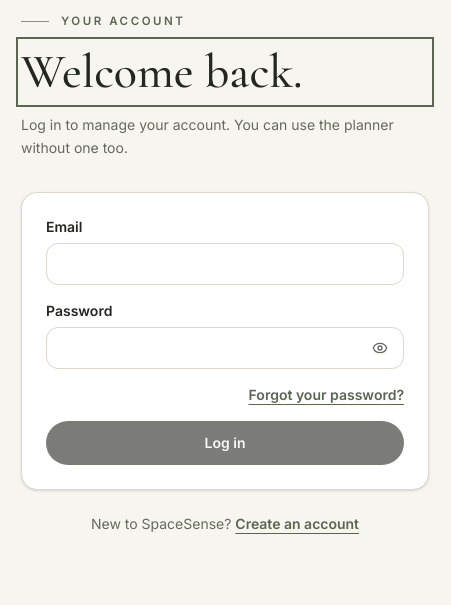
Test: LoginPage › submits the credentials and shows the server message when they are wrong
Expected: the button "Log in" is disabled, x1=46 y1=421 x2=404 y2=465
Step 1. Type "ada@example.com" into the field labelled "Email" → [225, 264], box x1=46 y1=243 x2=404 y2=285
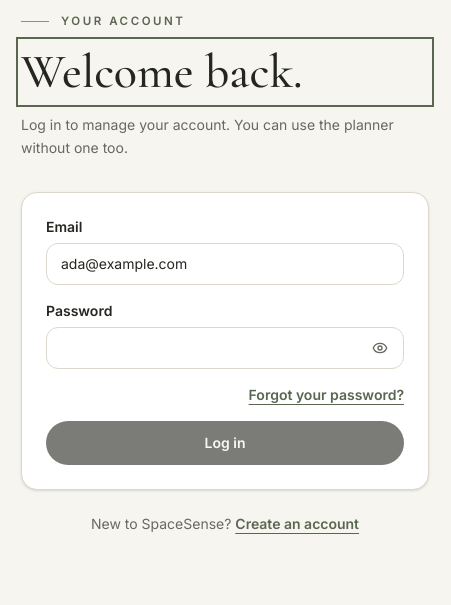
Step 2. Type "hunter2hunter2" into the password field labelled "Password" → [225, 348], box x1=46 y1=327 x2=404 y2=369
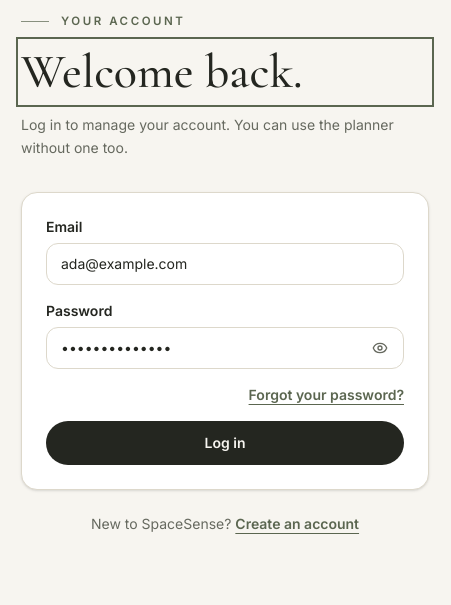
Step 3. Click the button "Log in" → [225, 443], box x1=46 y1=421 x2=404 y2=465
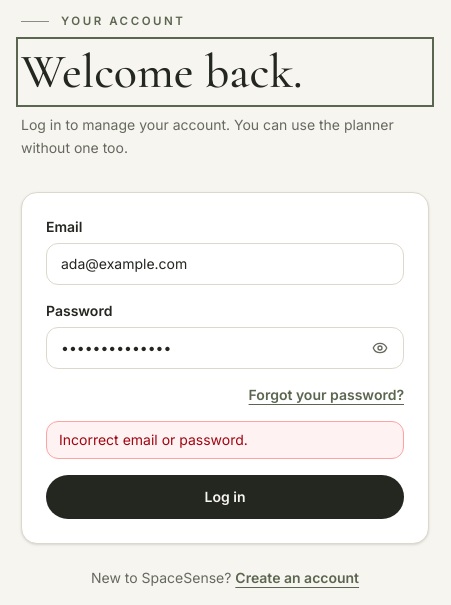
Expected: the button "Log in" is enabled, x1=46 y1=475 x2=404 y2=519
Expected: the message reads "Incorrect email or password.", x1=59 y1=431 x2=248 y2=448
